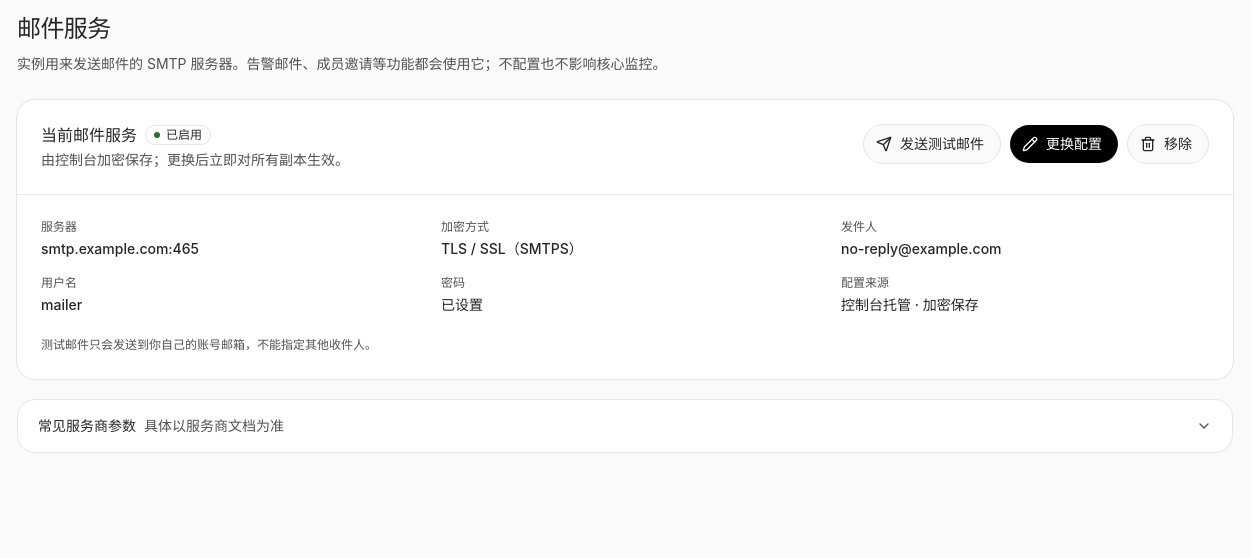
Test: EmailServicePage › leads with the active server and sends a test message to the signed-in account
The width and height of the screenshot is (1251, 558).
Check: the text "当前邮件服务" is shown, box [41,125,137,145]
Check: the text "smtp.example.com:465" is shown, box [41,240,199,257]
Click the button "发送测试邮件" at (932, 144), box [863,124,1001,164]
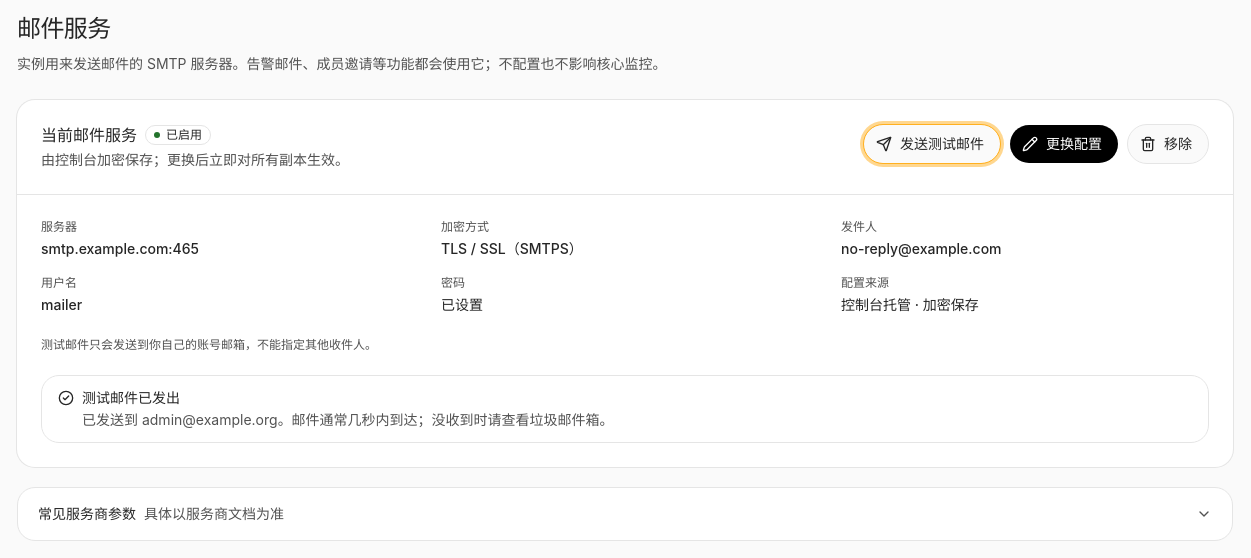
Check: the text "测试邮件已发出" is shown, box [82,389,180,406]
Check: the text "已发送到 admin@example.org。邮件通常几秒内到达；没收到时请查看垃圾邮件箱。" is shown, box [82,411,614,428]
